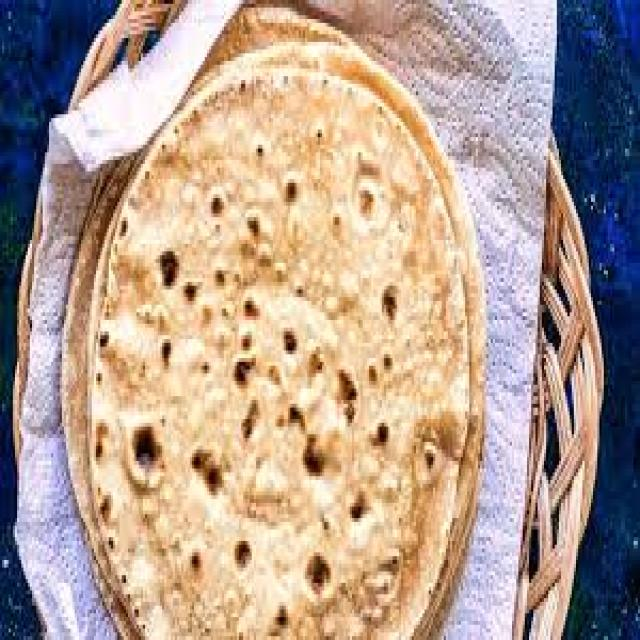ROTI: (95, 13, 471, 636)
